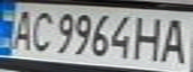4: (109, 11, 139, 60)
6: (90, 11, 115, 58)
9: (51, 8, 75, 55), (69, 10, 93, 56)
A: (157, 15, 193, 64), (6, 6, 39, 52)
C: (27, 7, 57, 53)
H: (133, 12, 169, 62)
